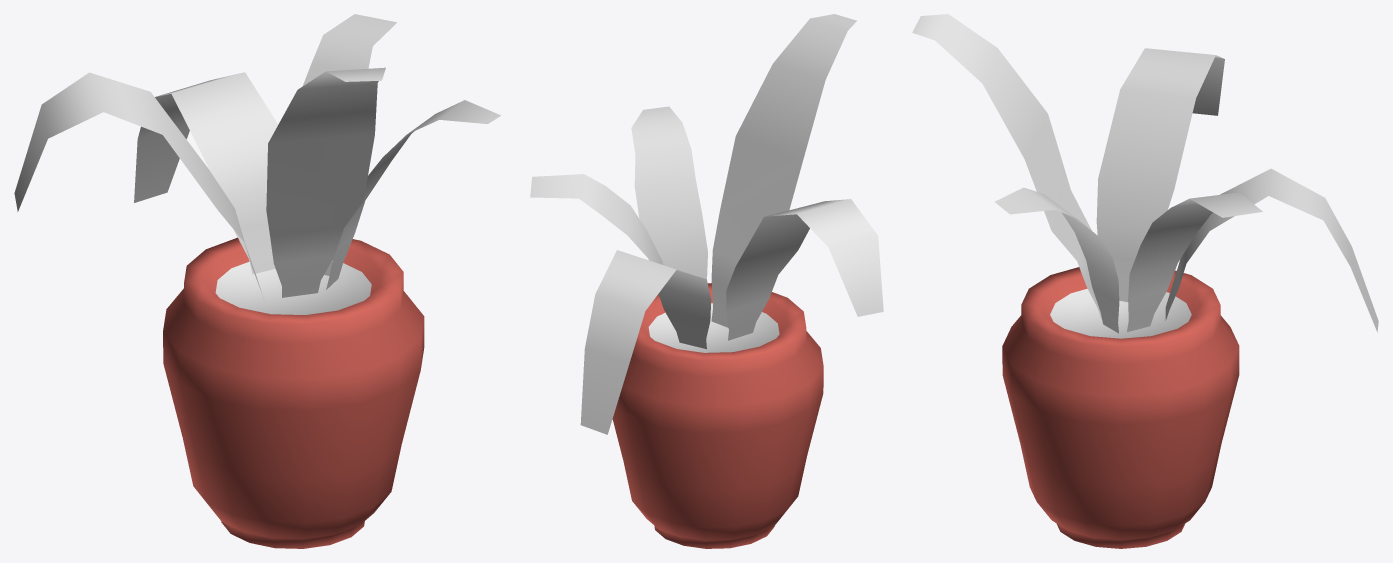
File: plant.fbx
3 renders of one model, left to right at view 1: azimuth 30°, elevation 25°; view 2: azimuth 150°, elevation 25°; view 3: azimuth 270°, elevation 25°, orthographic. The views are drawn at different scales.
Visible parts, largest first — view 1: Circle; view 2: Circle; view 3: Circle.
Part boxes in pixels (x1,y1,x2,y2): Circle: (14, 14, 500, 548); Circle: (530, 14, 883, 548); Circle: (912, 14, 1378, 548).
Size of the model in its own units: 123 by 139 by 157.
